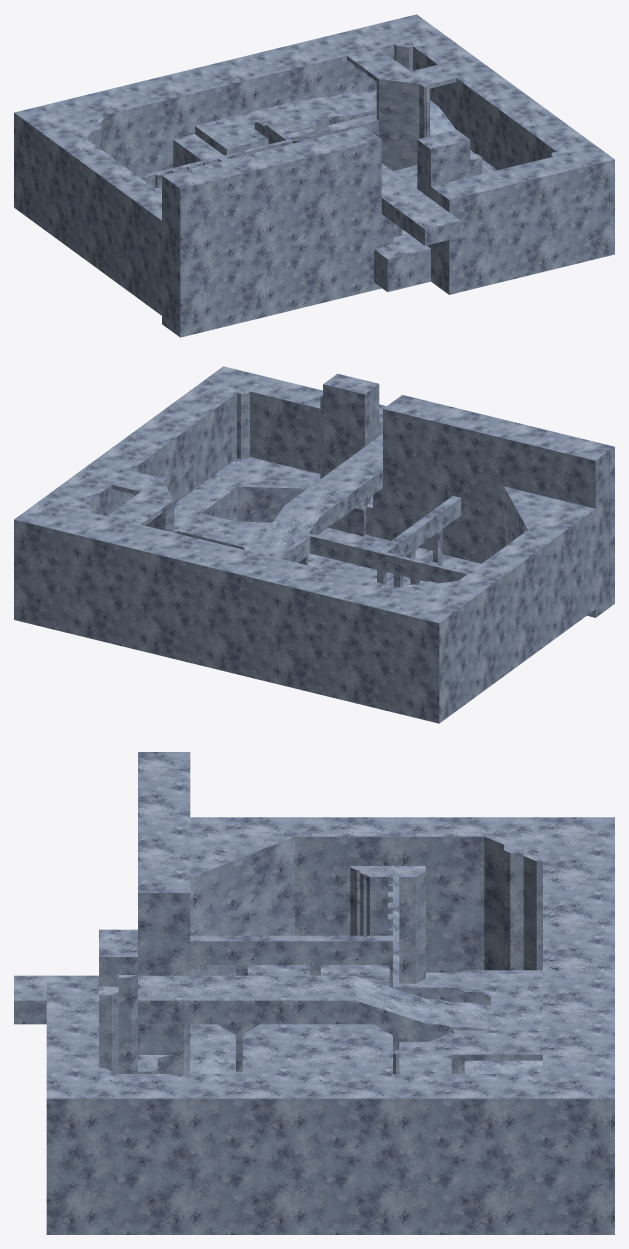
The picture shows the model from 3 angles, top to bottom: view 1: azimuth 30°, elevation 25°; view 2: azimuth 150°, elevation 25°; view 3: azimuth 270°, elevation 25°; orthographic projection. The views are drawn at different scales.
Parts seen in each view (by area): view 1: entity0_brush34, entity0_brush7, entity0_brush32, entity0_brush8, entity0_brush5, entity0_brush31, entity0_brush6, entity0_brush51, entity0_brush29, entity0_brush87, entity0_brush30, entity0_brush33 (+10 smaller); view 2: entity0_brush7, entity0_brush34, entity0_brush5, entity0_brush8, entity0_brush6, entity0_brush31, entity0_brush32, entity0_brush30, entity0_brush28, entity0_brush61, entity0_brush29, entity0_brush26 (+11 smaller); view 3: entity0_brush8, entity0_brush7, entity0_brush5, entity0_brush35, entity0_brush29, entity0_brush31, entity0_brush28, entity0_brush89, entity0_brush34, entity0_brush32, entity0_brush87, entity0_brush6 (+23 smaller).
Boxes of the visible parts, box(x1,y1,x2,y2) form: entity0_brush34: box(162, 143, 314, 337); entity0_brush7: box(42, 14, 441, 176); entity0_brush32: box(431, 155, 579, 294); entity0_brush8: box(406, 32, 614, 262); entity0_brush5: box(62, 141, 161, 315); entity0_brush31: box(296, 126, 381, 296); entity0_brush6: box(14, 106, 88, 242); entity0_brush51: box(379, 73, 419, 170); entity0_brush29: box(381, 163, 460, 245); entity0_brush87: box(195, 100, 323, 155); entity0_brush30: box(417, 129, 470, 248); entity0_brush33: box(374, 239, 430, 291); entity0_brush7: box(14, 500, 435, 716); entity0_brush34: box(454, 412, 614, 617); entity0_brush5: box(461, 501, 595, 686); entity0_brush8: box(41, 366, 260, 516); entity0_brush6: box(410, 579, 489, 723); entity0_brush31: box(383, 395, 472, 556); entity0_brush32: box(242, 375, 386, 473); entity0_brush30: box(323, 373, 379, 476); entity0_brush28: box(258, 485, 349, 549); entity0_brush61: box(306, 533, 468, 583); entity0_brush29: box(312, 434, 382, 511); entity0_brush26: box(237, 472, 310, 522); entity0_brush8: box(46, 1074, 542, 1234); entity0_brush7: box(543, 836, 614, 1234); entity0_brush5: box(190, 817, 477, 972); entity0_brush35: box(190, 836, 294, 975); entity0_brush29: box(14, 975, 281, 1024); entity0_brush31: box(138, 846, 190, 975); entity0_brush28: box(282, 975, 428, 1024); entity0_brush89: box(190, 935, 387, 964); entity0_brush34: box(138, 752, 190, 845); entity0_brush32: box(46, 982, 98, 1073); entity0_brush87: box(451, 973, 542, 1032); entity0_brush6: box(477, 817, 614, 970).
Size of the model in its own units: 1632 by 576 by 1472.
Materials: 1 (1 with a texture image).
